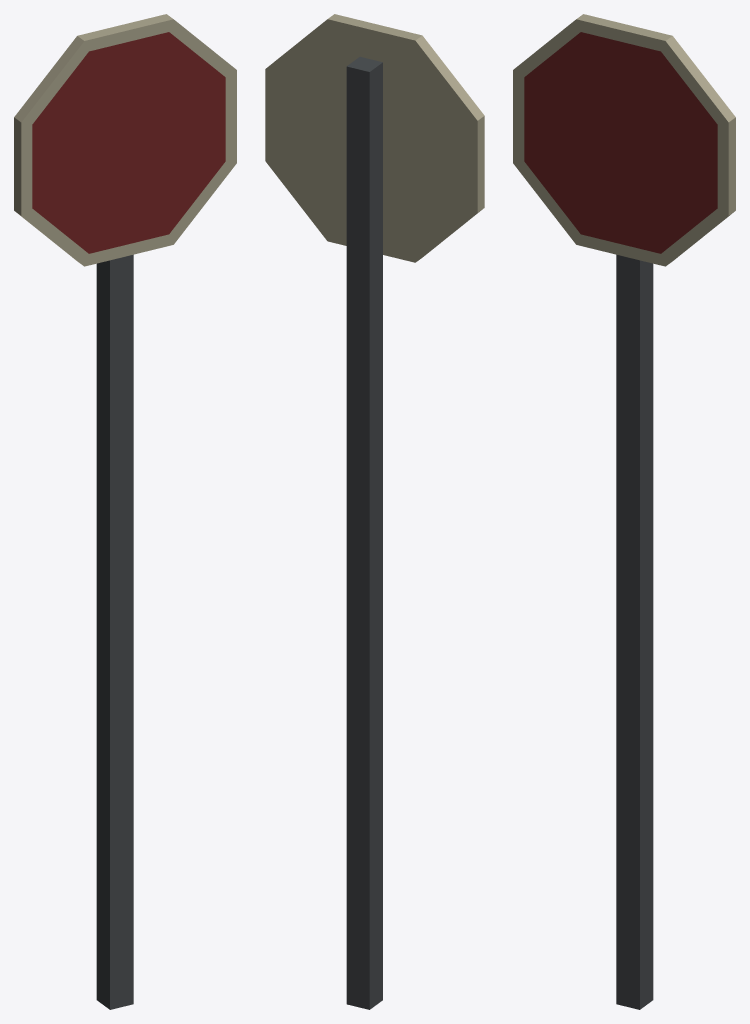
File: PS_StopSign.fbx
3 renders of one model, left to right at view 1: azimuth 30°, elevation 25°; view 2: azimuth 150°, elevation 25°; view 3: azimuth 330°, elevation 25°, orthographic.
Visible parts, largest first — view 1: PS_StopSign; view 2: PS_StopSign; view 3: PS_StopSign.
Part boxes in pixels (box(x1,y1,x2,y2)): PS_StopSign: box(14, 14, 236, 1009); PS_StopSign: box(265, 14, 484, 1009); PS_StopSign: box(513, 14, 735, 1009).
Size of the model in its own units: 0.4739 by 2.06 by 0.079.
